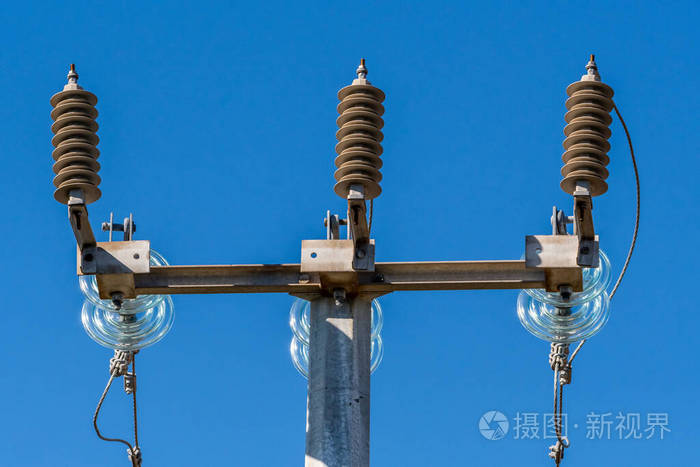insulator: (74, 251, 175, 351), (516, 245, 614, 343), (289, 296, 385, 379), (556, 81, 619, 191), (332, 85, 390, 196), (51, 88, 104, 200)
